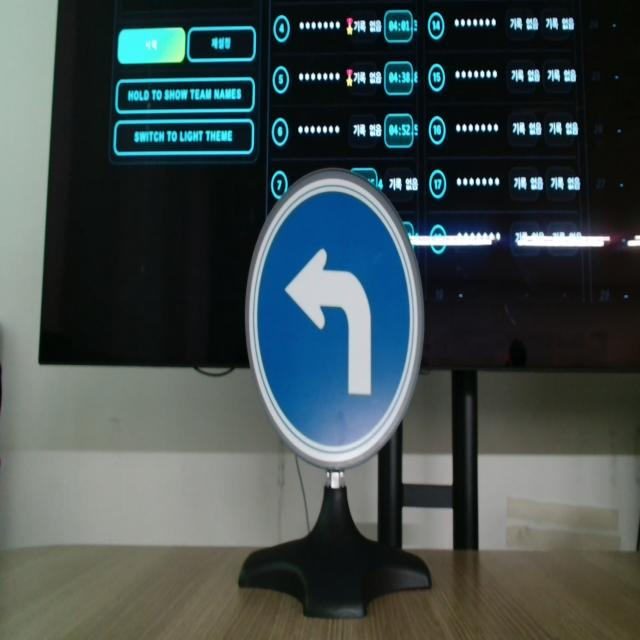left_direction: (240, 172, 428, 477)
